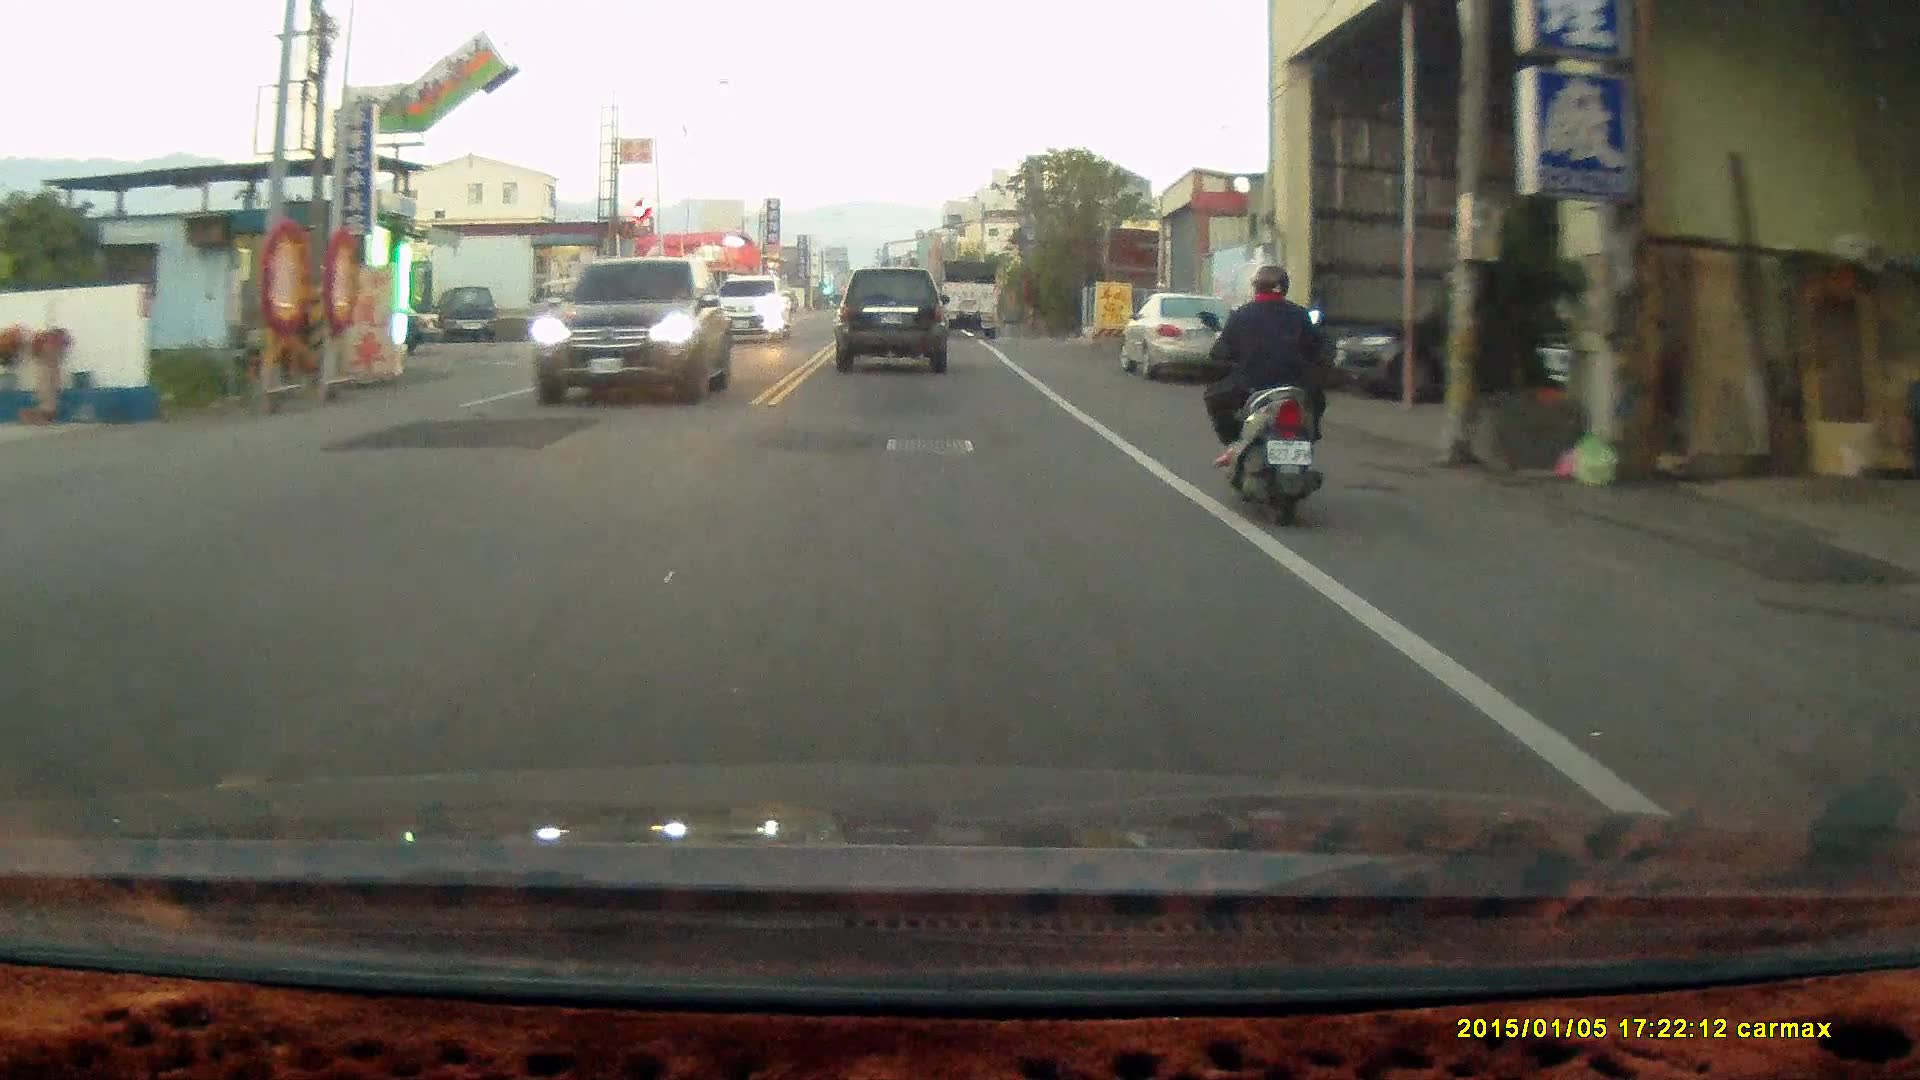rider: (1195, 263, 1328, 530)
vehicle: (526, 259, 738, 402), (1327, 297, 1540, 406), (836, 267, 952, 376), (1124, 290, 1246, 383), (711, 277, 795, 350), (930, 262, 1001, 341), (444, 286, 497, 345)
